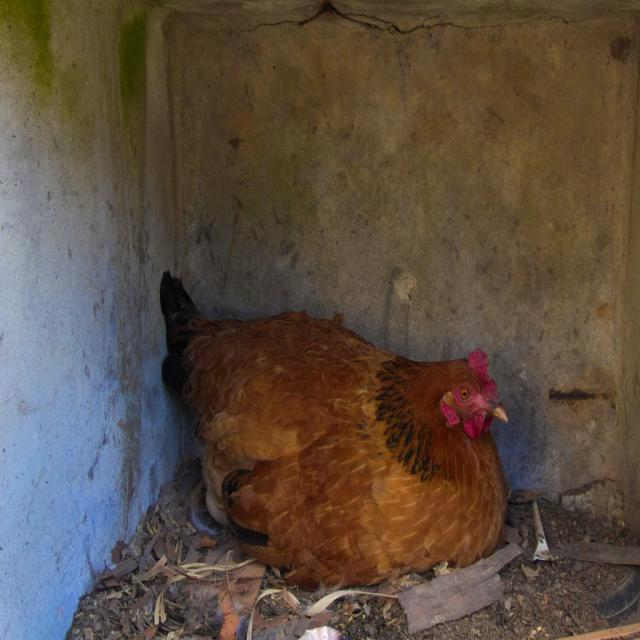Chicken: (162, 294, 526, 606)
